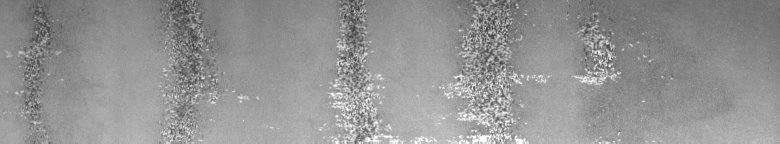hc: (331, 4, 377, 136)
